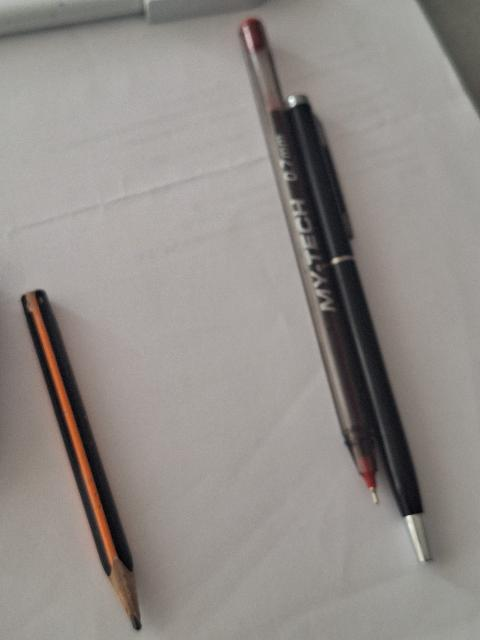writing_tool: (234, 14, 386, 511), (287, 93, 436, 570), (16, 285, 150, 635)
